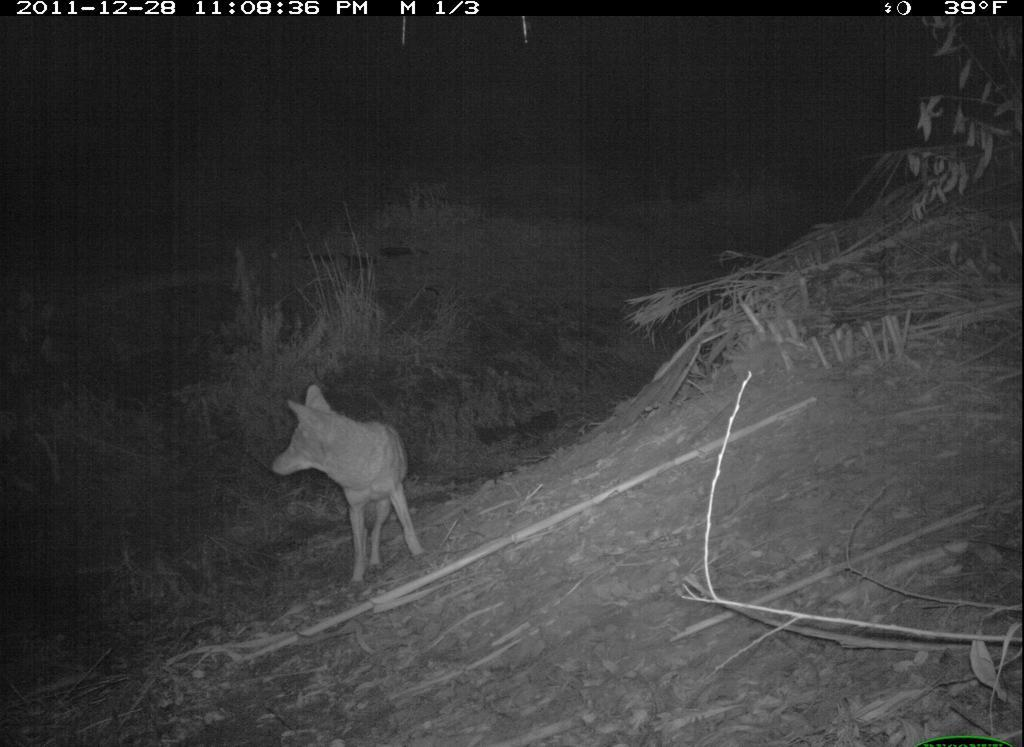coyote: (259, 378, 432, 591)
